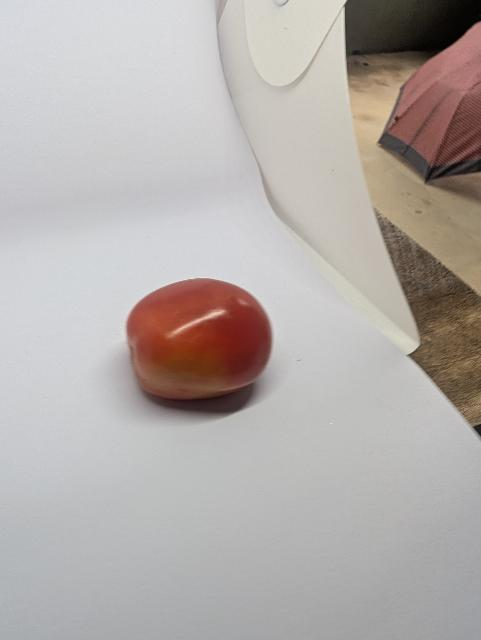red: (102, 261, 302, 419)
